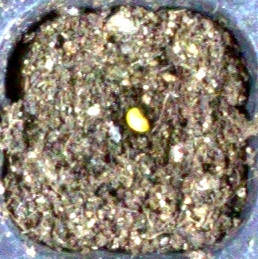pepper seed: (49, 41, 200, 174)
